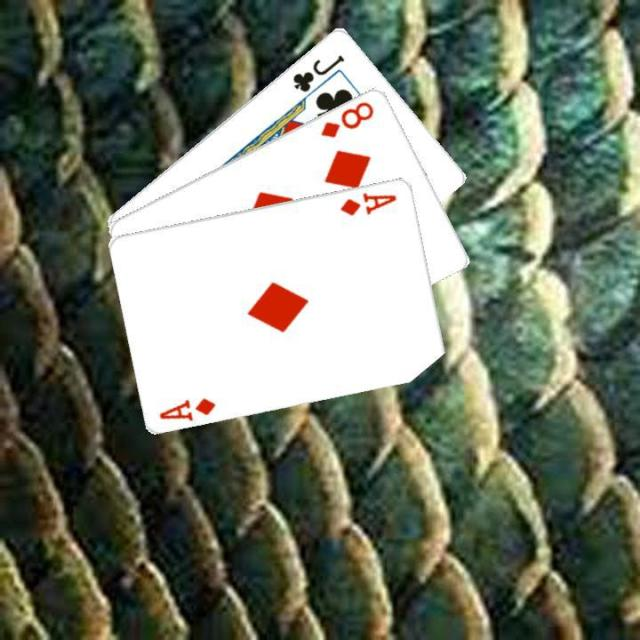8D: (316, 97, 376, 139)
AD: (337, 188, 398, 217), (156, 394, 218, 421)
JC: (288, 50, 347, 94)
